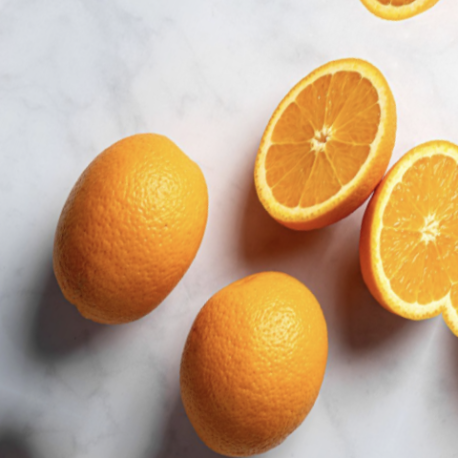orange: (21, 105, 246, 356), (144, 240, 369, 458)
